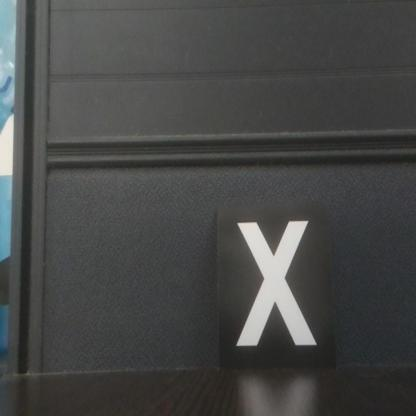x: (219, 206, 332, 367)
